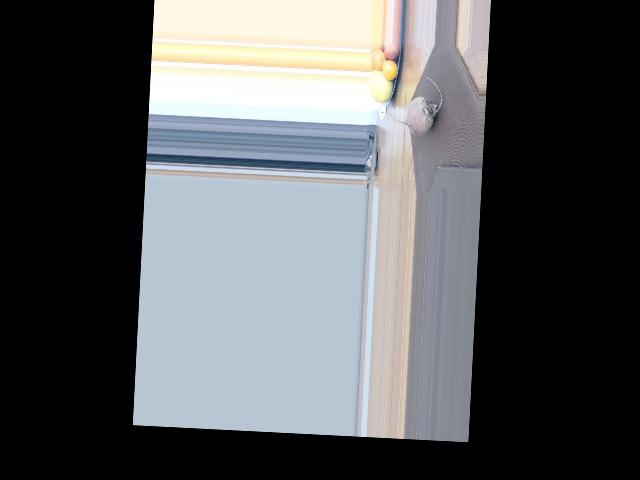beet: (389, 75, 443, 136)
